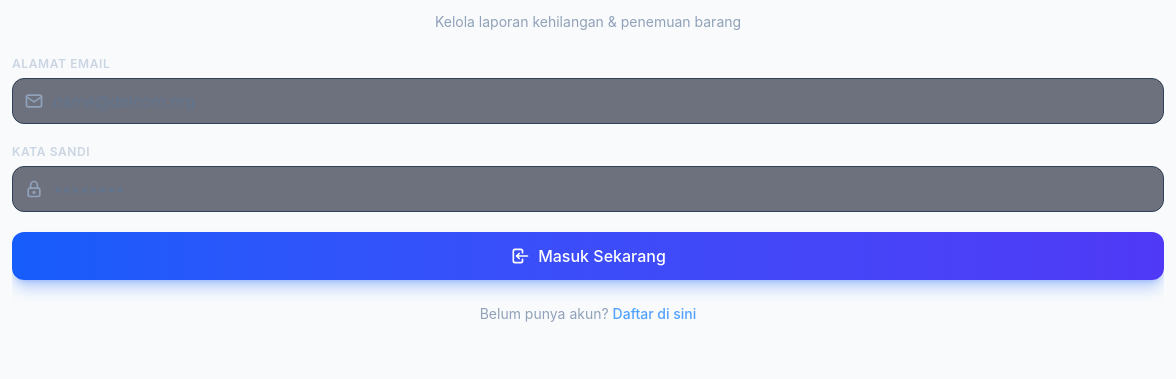
it: LoginPage › should display validation errors when submitting empty form
What coordinates should you click on to do the following:
click the button "Masuk Sekarang"
I would click on:
 (588, 256)
Its box is [12,232,1164,280].
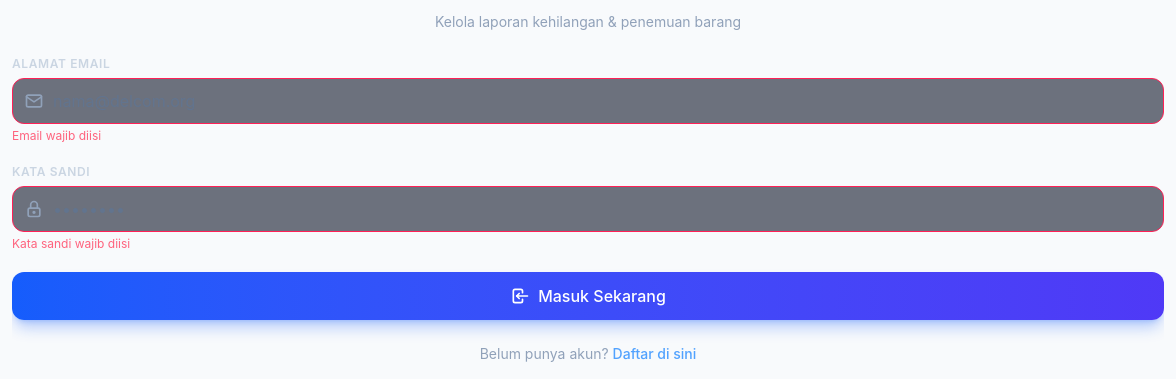
Result: the text "Email wajib diisi" is shown at [12,128,101,143]
Result: the text "Kata sandi wajib diisi" is shown at [12,236,130,251]
